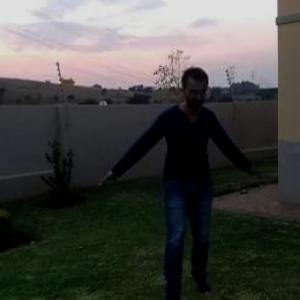land: (81, 55, 261, 299)
